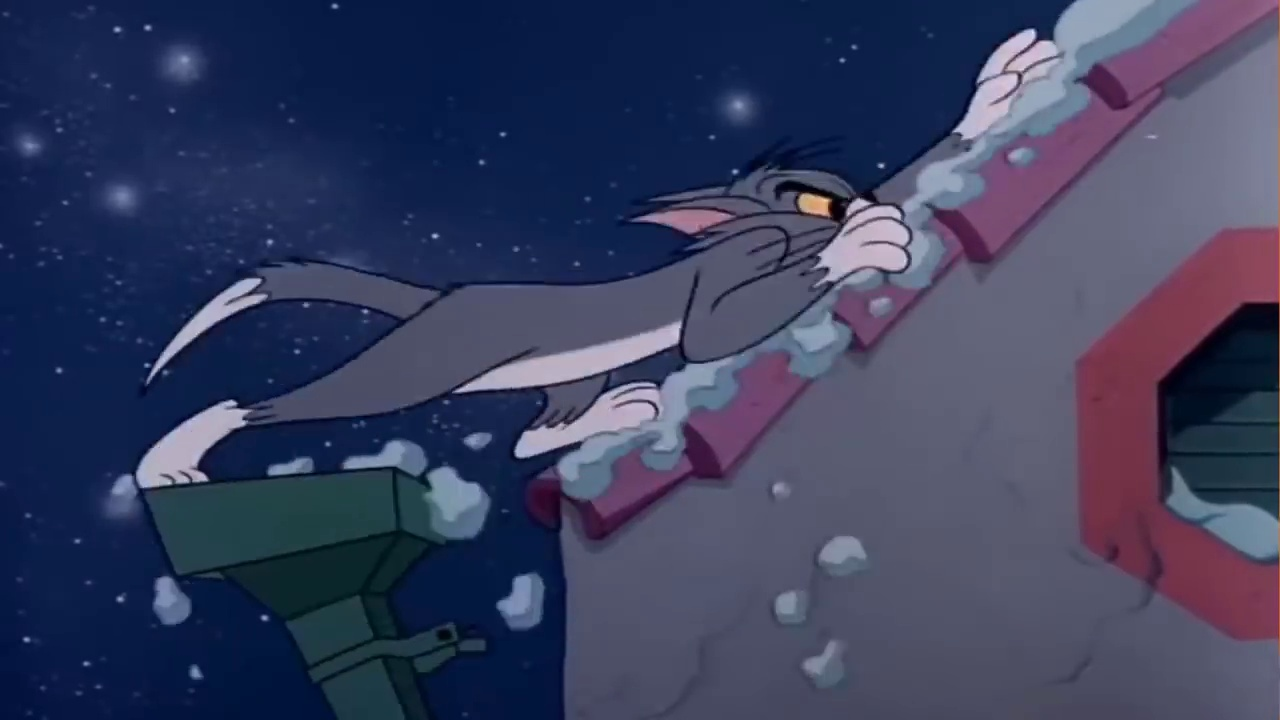face: (768, 173, 879, 255)
